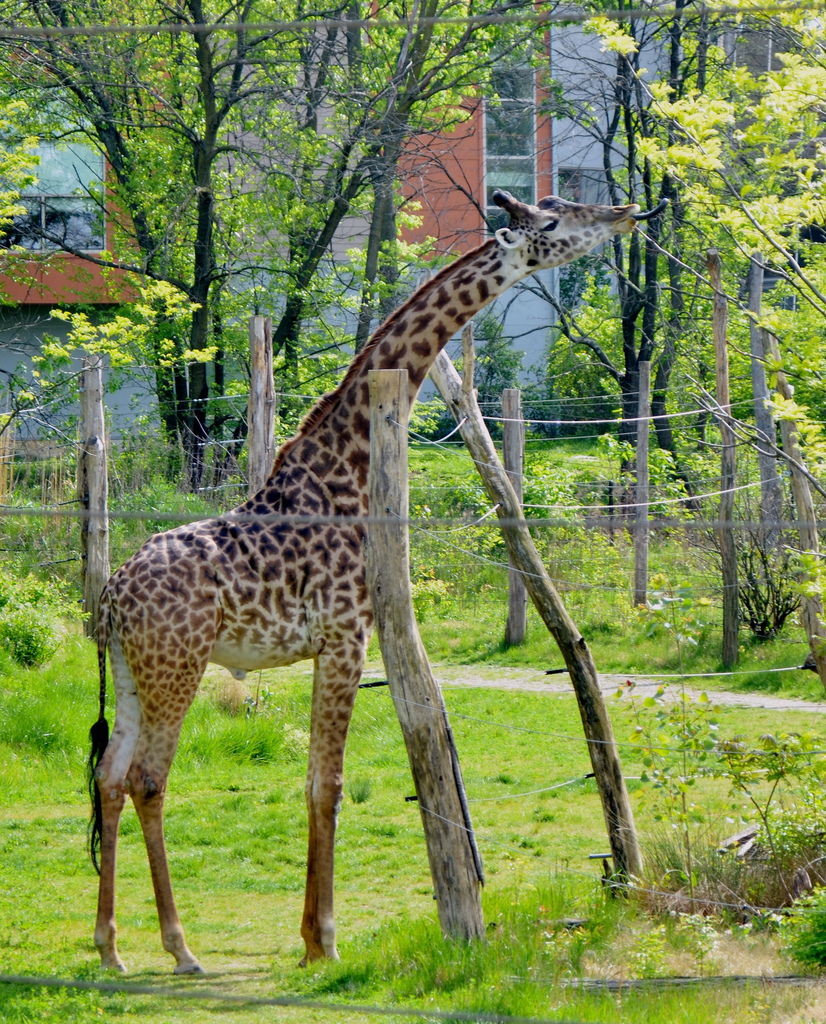giraffe: (60, 164, 690, 950)
